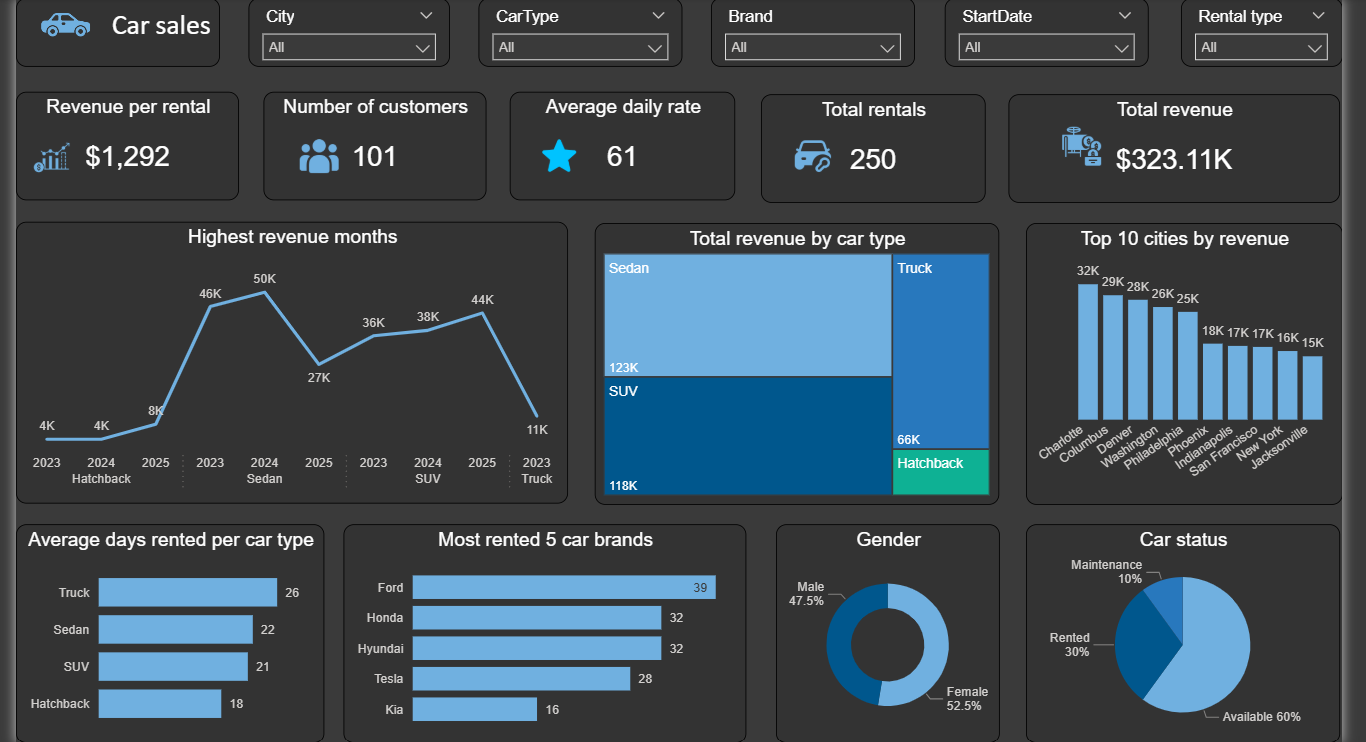

The dashboard page shown, as its layout file describes it:
{"tool":"powerbi","page":{"name":"Page 1","canvas":[1280,720],"ordinal":0},"visuals":[{"type":"card","title":"Total revenue","fields":{"Values":["Cars.Total Revenue"]},"box":[957.9,92.9,319.7,105],"z":0},{"type":"card","title":"Total rentals","fields":{"Values":["Cars.total rentals"]},"box":[718.8,92.3,216.6,104.6],"z":1000},{"type":"card","title":"Number of customers","fields":{"Values":["Cars.Unique customers"]},"box":[238.8,91.1,215,104.6],"z":2000},{"type":"card","title":"Revenue per rental","fields":{"Values":["Cars.revenue per rental"]},"box":[0,91.1,215.4,104.6],"z":3000},{"type":"barChart","title":"Most rented 5 car brands","fields":{"Category":["Cars.Brand"],"Y":["CountNonNull(Rentals.RentalID)"]},"box":[316.3,508.3,388.9,211.7],"z":4000},{"type":"treemap","title":"Total revenue by car type","fields":{"Group":["Cars.CarType"],"Values":["Sum(Rentals.TotalAmount)"]},"box":[558.8,216.6,390.2,272],"z":5000},{"type":"lineChart","title":"Highest revenue months","fields":{"Y":["Sum(Rentals.TotalAmount)"],"Category":["Cars.CarType","Rentals.StartDate.Variation.Date Hierarchy.Year"]},"box":[0,215.4,532.9,272],"z":6000},{"type":"pieChart","title":"Car status","fields":{"Category":["Cars.Status"],"Y":["CountNonNull(Cars.CarID)"]},"box":[974.8,507.9,302.8,212.3],"z":7000},{"type":"donutChart","title":"Gender","fields":{"Category":["Customers.Gender"],"Y":["CountNonNull(Customers.CustomerID)"]},"box":[733.5,507.9,216,212.3],"z":8000},{"type":"slicer","fields":{"Values":["Customers.City"]},"box":[224,0,194.5,66.5],"z":9000},{"type":"slicer","fields":{"Values":["Cars.CarType"]},"box":[446.4,0,196.6,66.4],"z":10000},{"type":"slicer","fields":{"Values":["Cars.Brand"]},"box":[670.8,0,196.6,66.4],"z":11000},{"type":"barChart","title":"Average days rented per car type","fields":{"Category":["Cars.CarType"],"Y":["Cars.average rental duration"]},"box":[0,508.3,297.8,211.7],"z":12000},{"type":"textbox","box":[0,0,196.9,66.5],"z":13000},{"type":"slicer","fields":{"Values":["Rentals.StartDate"]},"box":[896,0,196.9,66.5],"z":14000},{"type":"slicer","fields":{"Values":["Rentals.rental type"]},"box":[1124.4,0,155.6,66.4],"z":15000},{"type":"clusteredColumnChart","title":"Top 10 cities by revenue","fields":{"Category":["Customers.City"],"Y":["Sum(Rentals.TotalAmount)"]},"box":[974.8,216.6,305.2,272],"z":16000},{"type":"card","title":"Average daily rate","fields":{"Values":["Cars.average daily rate"]},"box":[476.3,91.1,217.8,104.6],"z":17000},{"type":"image","box":[19.3,8.4,57.9,42.2],"z":18000},{"type":"image","box":[269,129.1,47.1,47.1],"z":19000},{"type":"image","box":[745.6,129.1,47.1,47.1],"z":20000},{"type":"image","box":[1005,119.4,47.1,47.1],"z":21000},{"type":"image","box":[10.9,130.3,47.1,47.1],"z":22000},{"type":"image","box":[503.1,129.1,42.2,47.1],"z":23000}]}

Visuals, with their boxes on the page's 1280x720 design canvas (x1, y1, x2, y2). These are canvas units, not pixel positions in the 1366x742 screenshot, which may show the page scaled, cropped or inside an application window:
"Total revenue" card: 958, 93, 1278, 198
"Total rentals" card: 719, 92, 935, 197
"Number of customers" card: 239, 91, 454, 196
"Revenue per rental" card: 0, 91, 215, 196
"Most rented 5 car brands" barChart: 316, 508, 705, 720
"Total revenue by car type" treemap: 559, 217, 949, 489
"Highest revenue months" lineChart: 0, 215, 533, 487
"Car status" pieChart: 975, 508, 1278, 720
"Gender" donutChart: 734, 508, 950, 720
slicer - Customers.City: 224, 0, 418, 66
slicer - Cars.CarType: 446, 0, 643, 66
slicer - Cars.Brand: 671, 0, 867, 66
"Average days rented per car type" barChart: 0, 508, 298, 720
textbox: 0, 0, 197, 66
slicer - Rentals.StartDate: 896, 0, 1093, 66
slicer - Rentals.rental type: 1124, 0, 1280, 66
"Top 10 cities by revenue" clusteredColumnChart: 975, 217, 1280, 489
"Average daily rate" card: 476, 91, 694, 196
image: 19, 8, 77, 51
image: 269, 129, 316, 176
image: 746, 129, 793, 176
image: 1005, 119, 1052, 166
image: 11, 130, 58, 177
image: 503, 129, 545, 176
